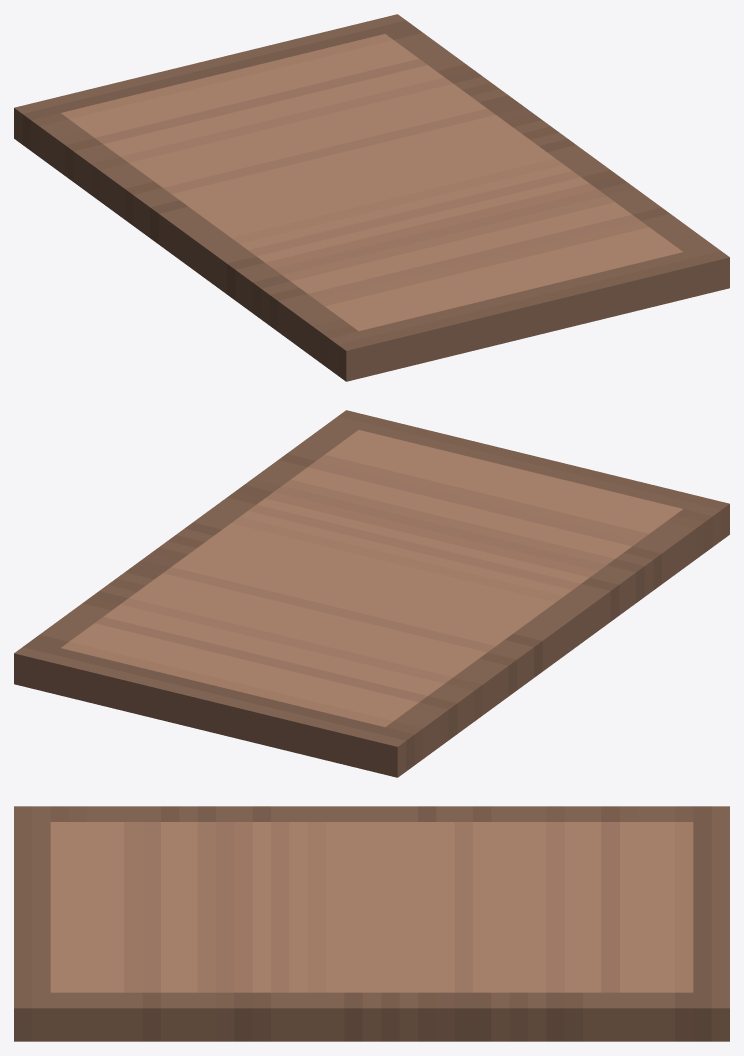
The model's file is alfombra_mediana_desgastada_01.glb.
3 renders of one model, top to bottom at view 1: azimuth 30°, elevation 25°; view 2: azimuth 150°, elevation 25°; view 3: azimuth 270°, elevation 25°, orthographic. The views are drawn at different scales.
Parts seen in each view (by area): view 1: alfombra_mediana_desgastada; view 2: alfombra_mediana_desgastada; view 3: alfombra_mediana_desgastada.
Boxes of the visible parts, bbox=[...] form: alfombra_mediana_desgastada: bbox=[14, 14, 729, 381]; alfombra_mediana_desgastada: bbox=[14, 410, 729, 777]; alfombra_mediana_desgastada: bbox=[14, 806, 729, 1041].
Size of the model in its own units: 2 by 0.1538 by 3.
